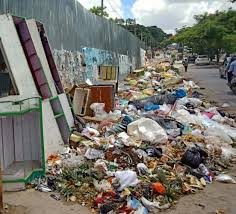garbage: (72, 85, 195, 214), (51, 145, 195, 208), (127, 70, 183, 214), (151, 99, 233, 191), (142, 59, 183, 214)
